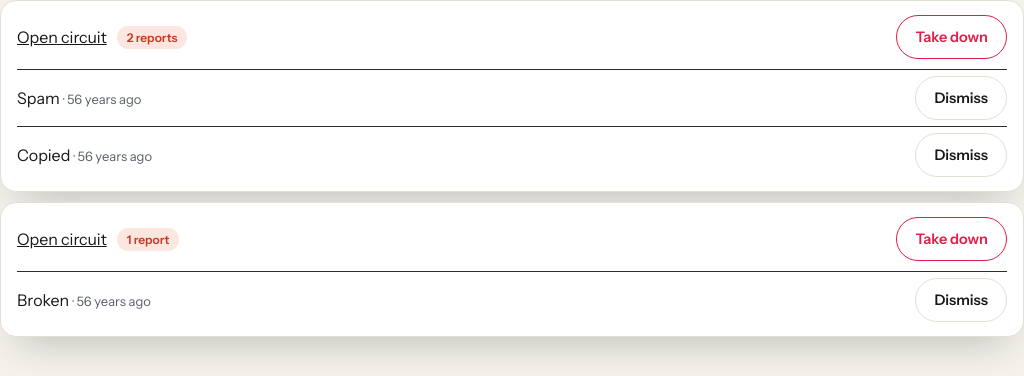
Test: ReportsSection › dismisses one report
The image size is (1024, 376).
Expected: the text "Broken" is shown, [17,290,69,310]
Step 1. Click the button "Dismiss" in the row of "Broken" → coordinates (961, 300), box [915,278,1007,322]
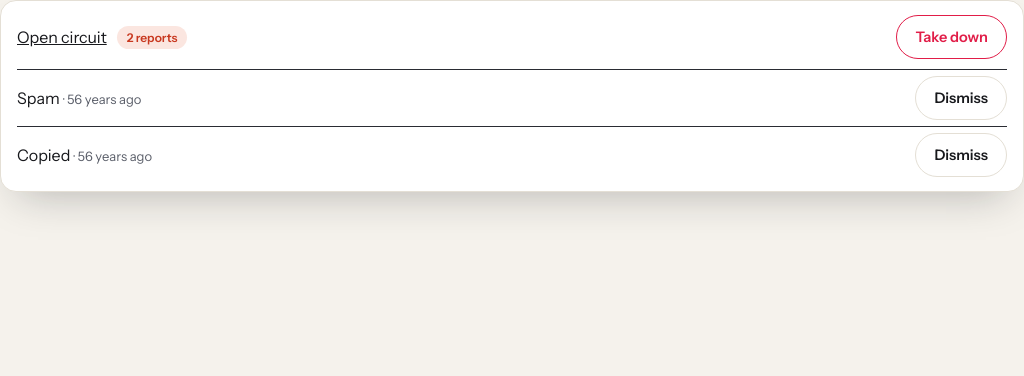
Expected: the text "Broken" is gone
